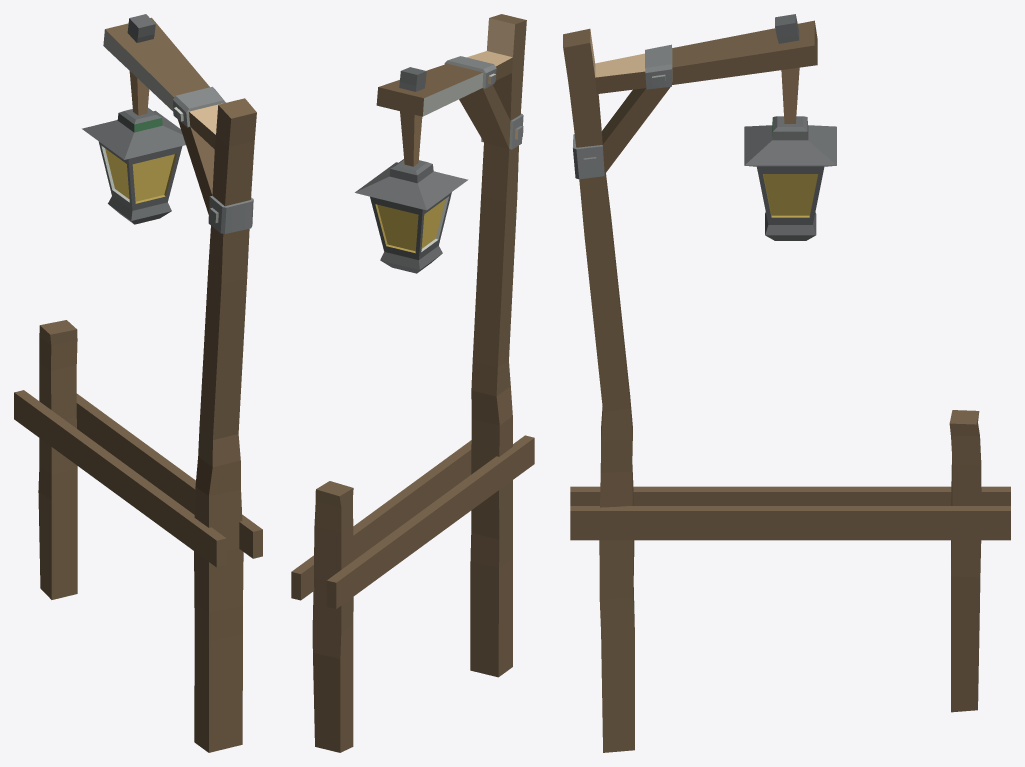
Rendered from PierLampPost.fbx.
3 views of the same model, side by side, from view 1: azimuth 30°, elevation 25°; view 2: azimuth 150°, elevation 25°; view 3: azimuth 270°, elevation 25° (orthographic). The views are drawn at different scales.
Visible parts, largest first — view 1: Lamp.003; view 2: Lamp.003; view 3: Lamp.003.
Boxes of the visible parts, bbox=[...] form: Lamp.003: bbox=[14, 14, 262, 752]; Lamp.003: bbox=[291, 14, 534, 752]; Lamp.003: bbox=[563, 14, 1010, 752].
Size of the model in its own units: 267 by 2302 by 1287.
